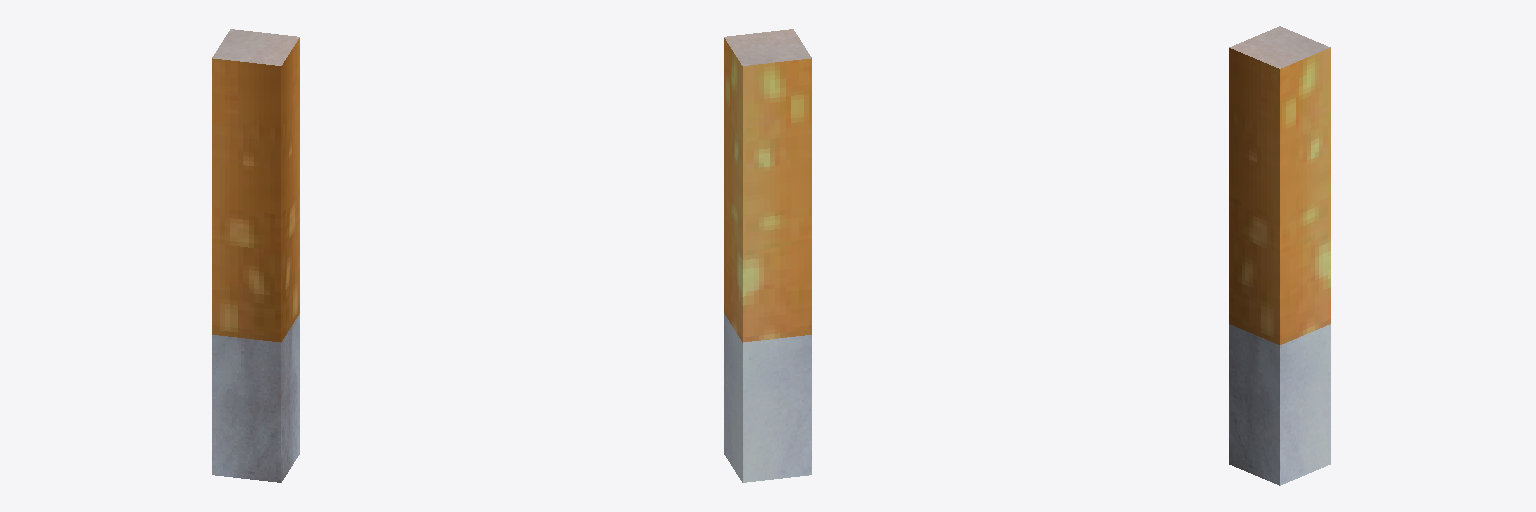
3 views of the same model, side by side, from view 1: azimuth 30°, elevation 25°; view 2: azimuth 150°, elevation 25°; view 3: azimuth 270°, elevation 25° (orthographic).
Parts seen in each view (by area): view 1: CigaretteButt; view 2: CigaretteButt; view 3: CigaretteButt.
Part boxes in pixels (x1,y1,x2,y2): CigaretteButt: (212,29,299,482); CigaretteButt: (724,29,811,482); CigaretteButt: (1229,26,1330,485).
Bounding box in the file's own units: 0.1047 × 0.4729 × 0.1047.
1 materials, 1 textured.